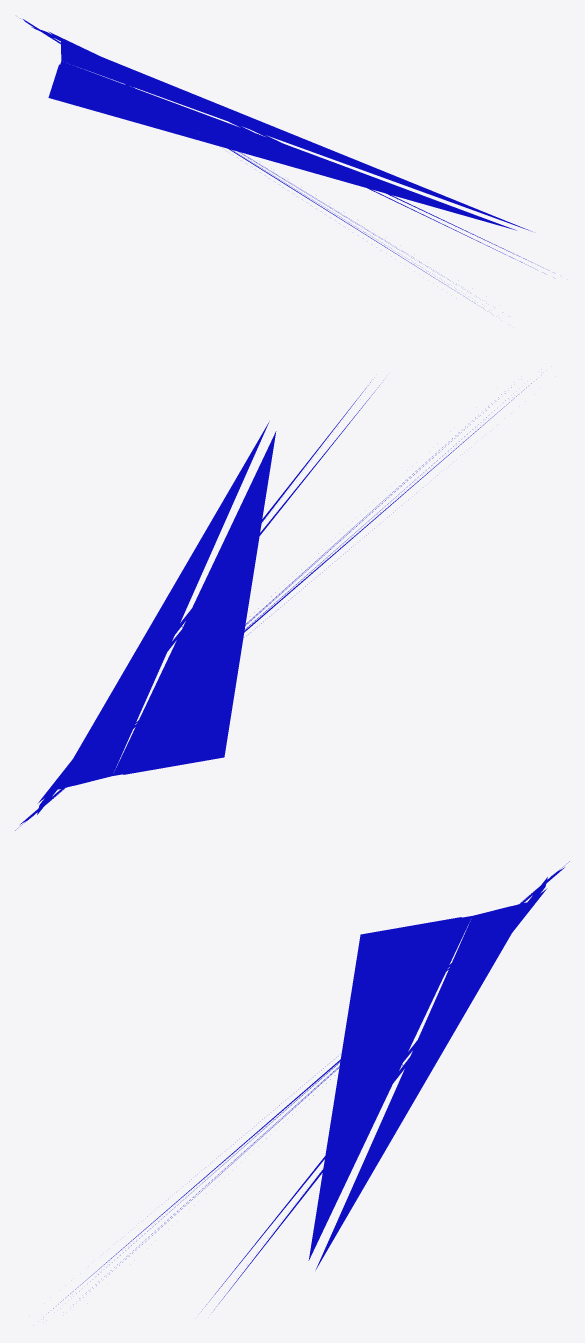
3 renders of one model, top to bottom at view 1: azimuth 30°, elevation 25°; view 2: azimuth 150°, elevation 25°; view 3: azimuth 330°, elevation 25°, orthographic. The views are drawn at different scales.
Bounding box in the file's own units: 2821 × 0.001 × 9602.
